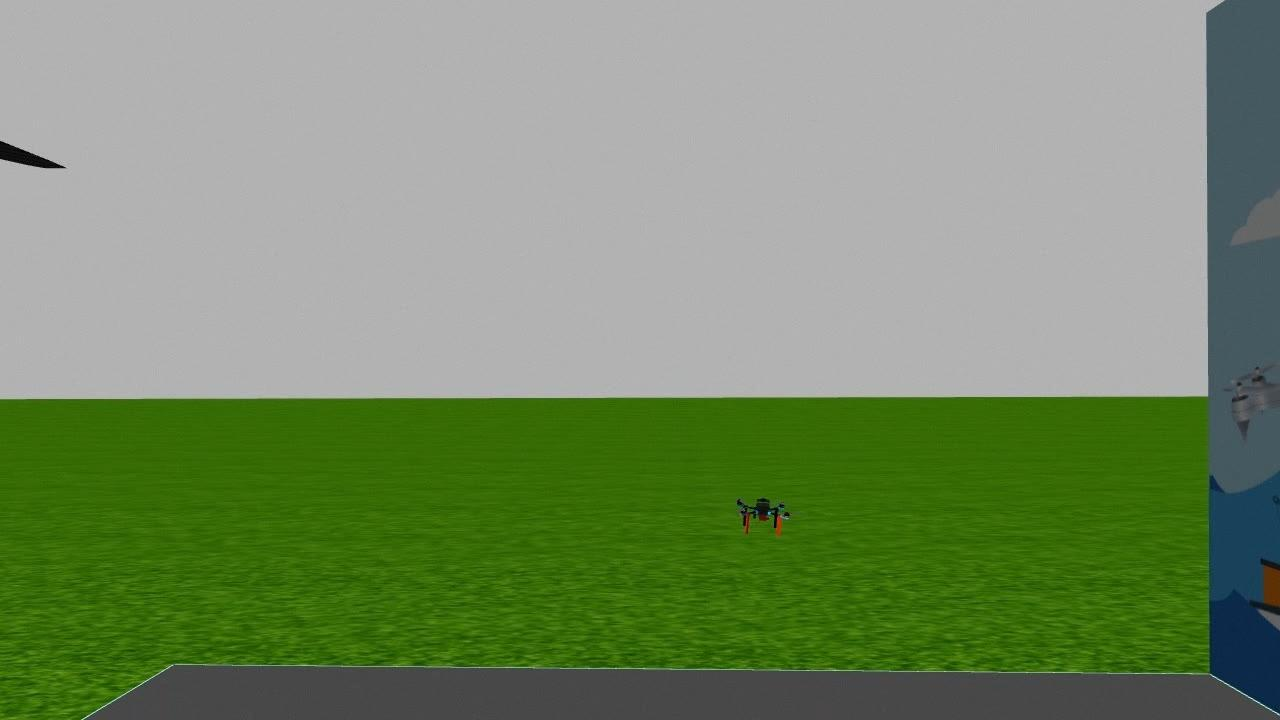UAV: (711, 472, 818, 541)
